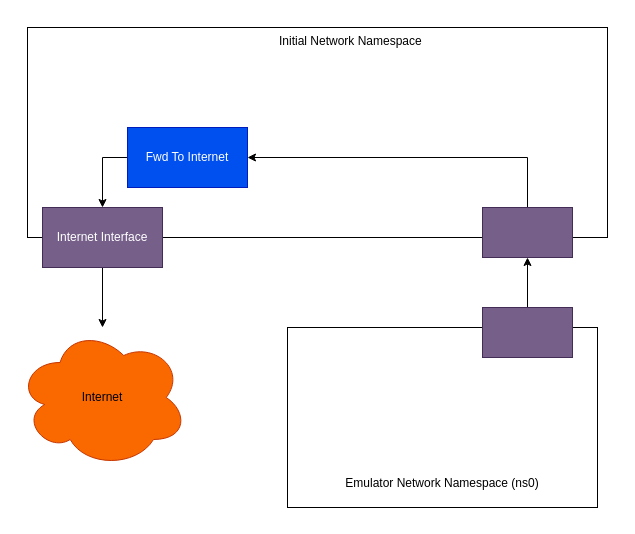
This 635x534 diagram has some shape labels left out. The shapes that lost their labels are listed below. From the top down, each one's centre as x and y in pixels, then its label:
At point (527, 232): "veth0 192.168.123.1".
At point (527, 332): "veth1 192.168.123.2 default gateway".
